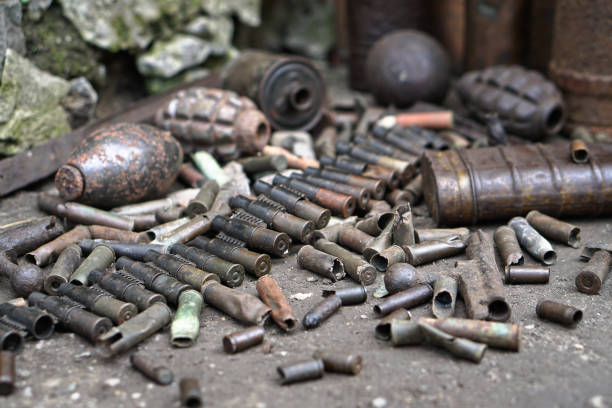e1: (449, 60, 569, 136), (161, 86, 271, 155)
